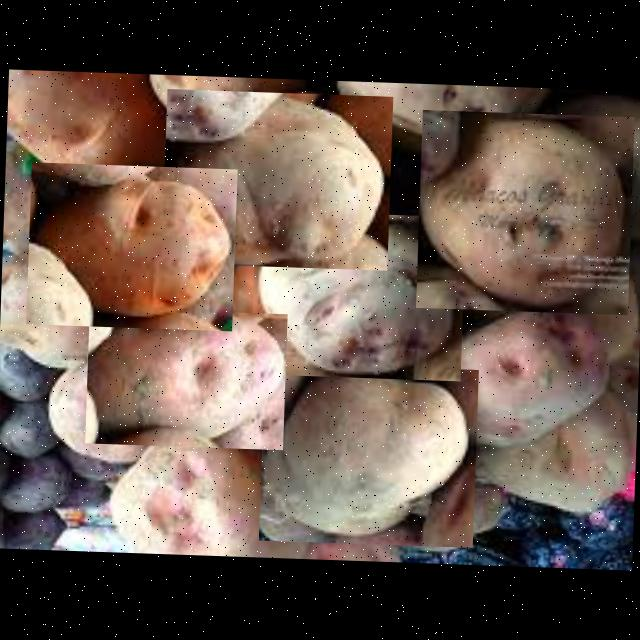Damaged potato: (416, 110, 634, 314), (161, 88, 393, 270), (258, 362, 478, 548), (250, 210, 466, 381), (26, 162, 238, 331), (85, 307, 288, 450), (100, 430, 320, 560), (423, 308, 607, 457), (317, 81, 554, 147)
